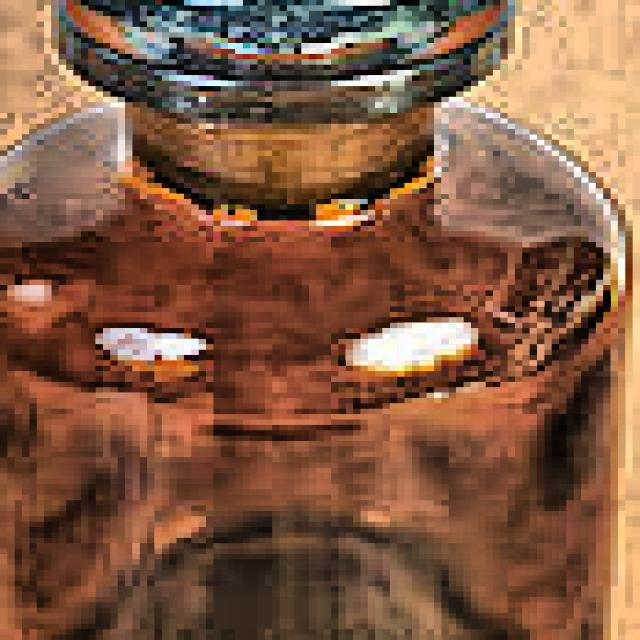glass: (0, 0, 638, 640)
